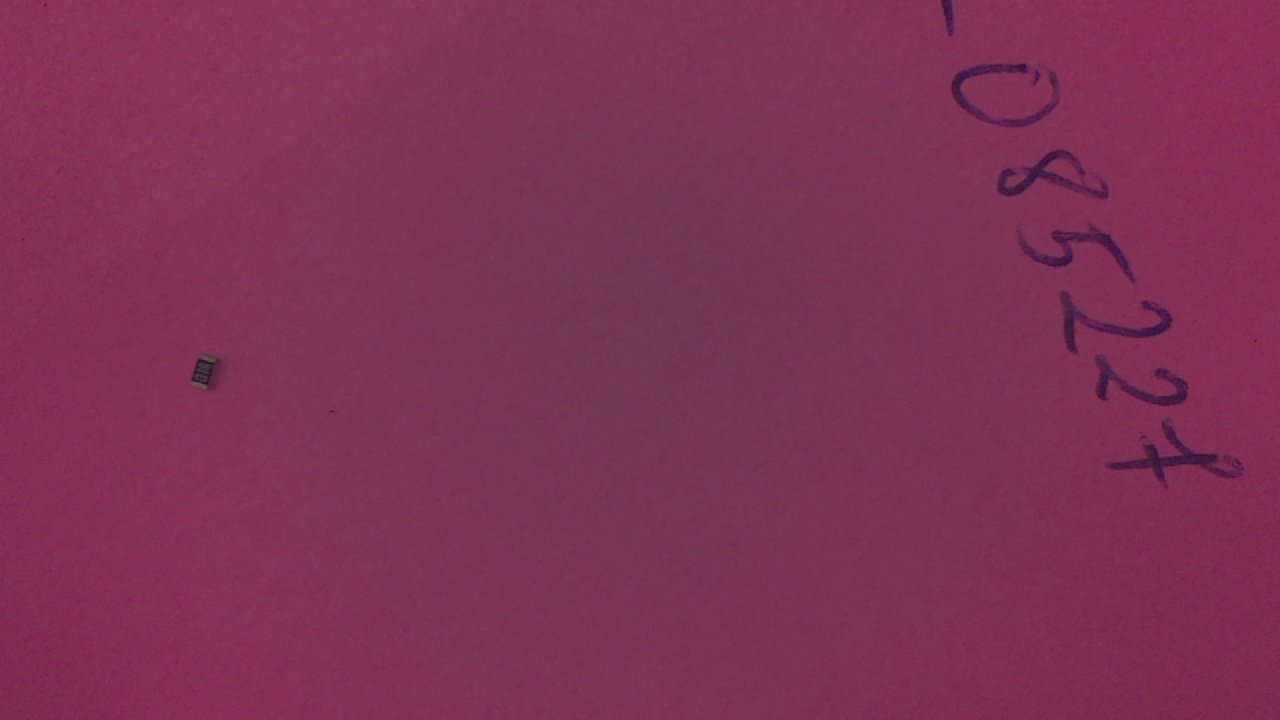Resistor: (190, 360, 224, 399)
